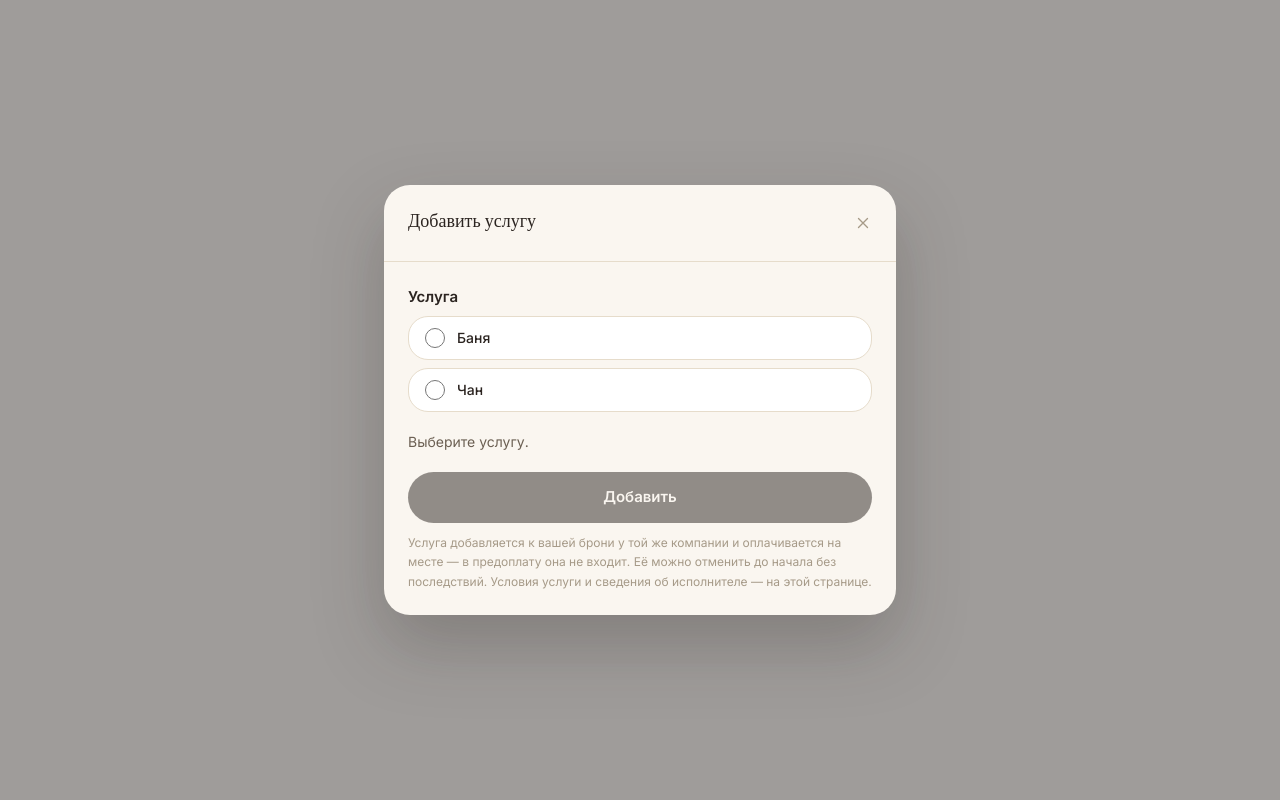
Test case: ServicePickDialog (QA цикл 39) › a quote the server refused (not ok / gate closed) can never be confirmed
Step 1. Click the radio button labelled "Баня" → (435, 338), box left=425, top=328, right=445, bottom=348
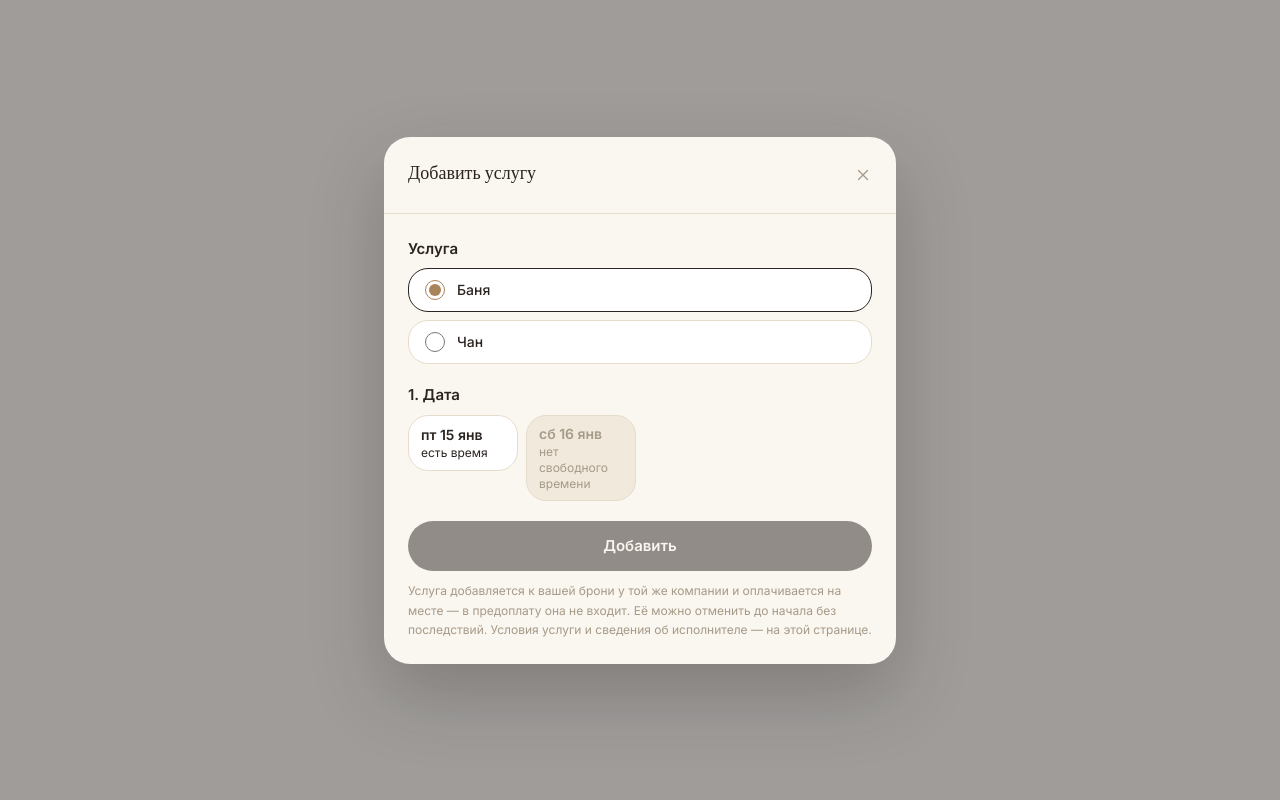
Step 2. Click the button "пт 15 янв есть время" → (463, 442), box left=408, top=414, right=518, bottom=470
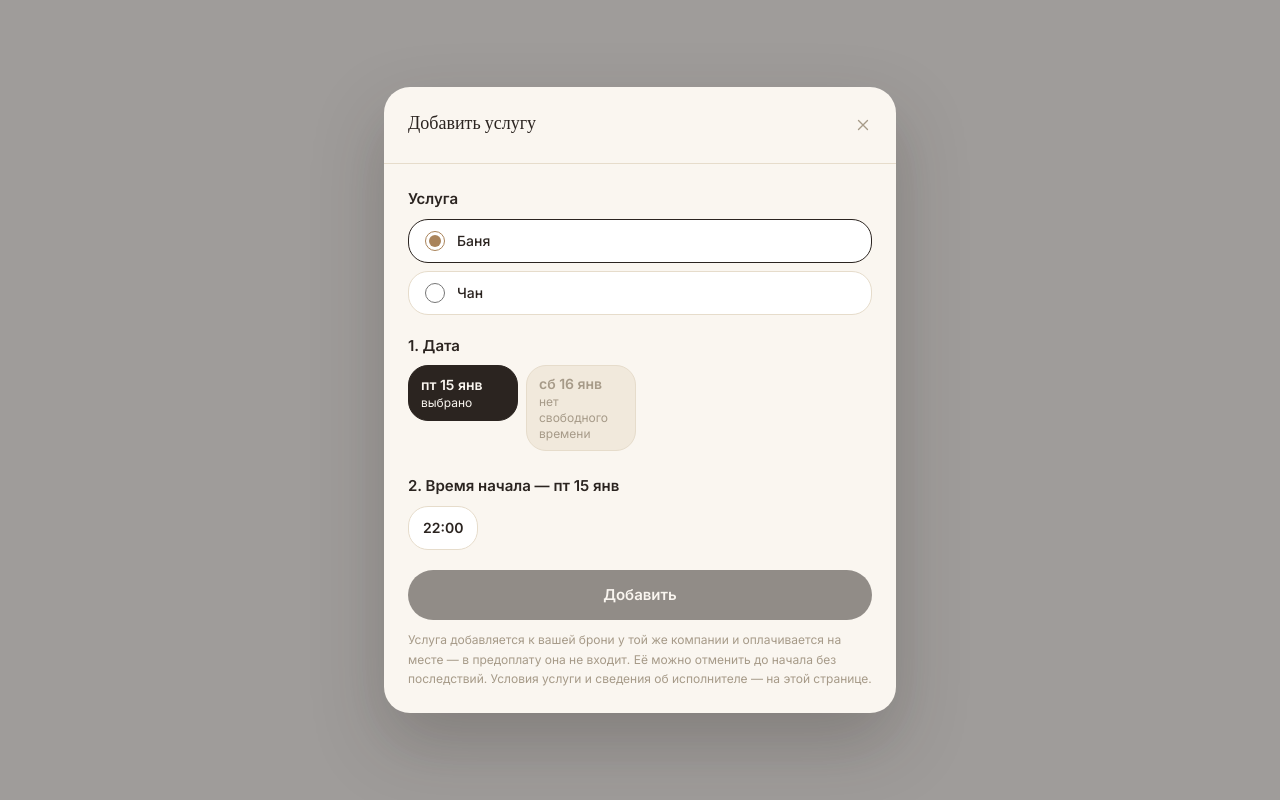
Step 3. Click the button named "Начало в 22:00" → (443, 528), box left=408, top=506, right=478, bottom=550
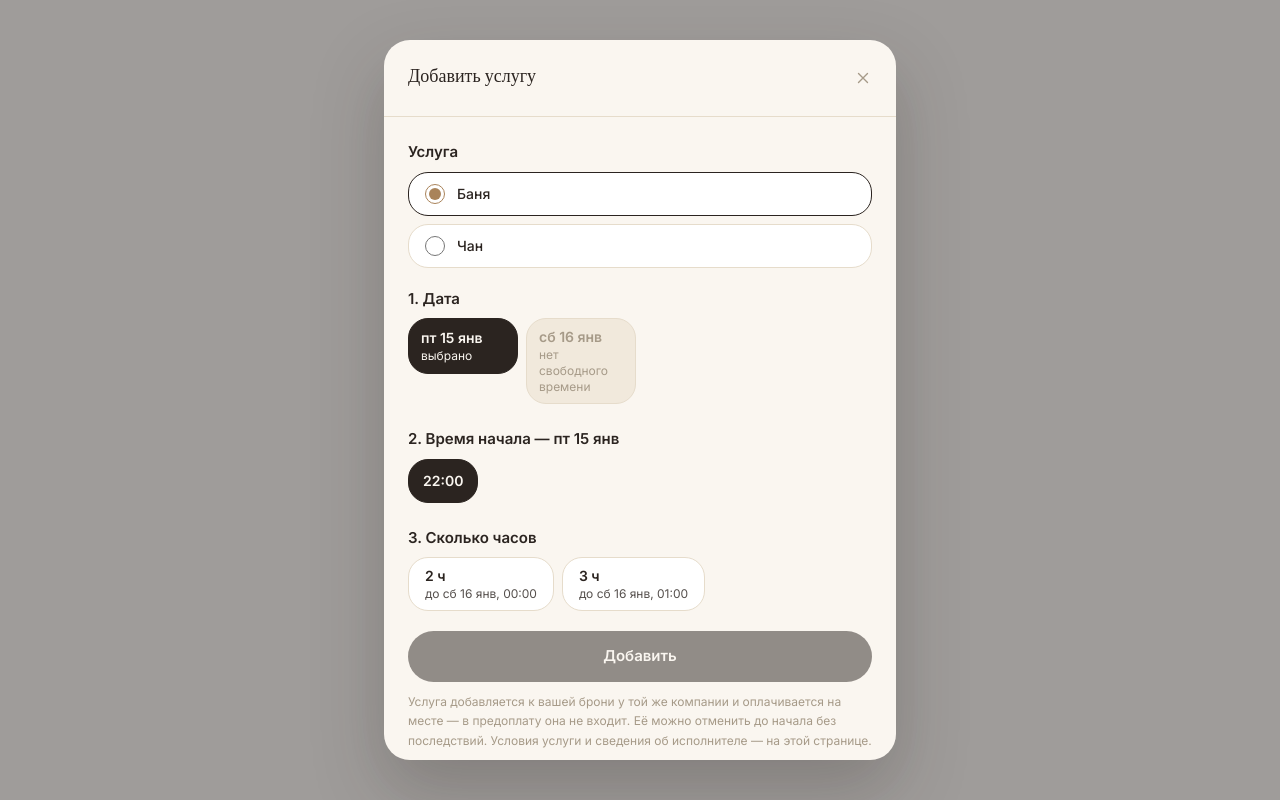
Step 4. Click the button "2 ч до сб 16 янв, 00:00" → (481, 584), box left=408, top=557, right=554, bottom=611
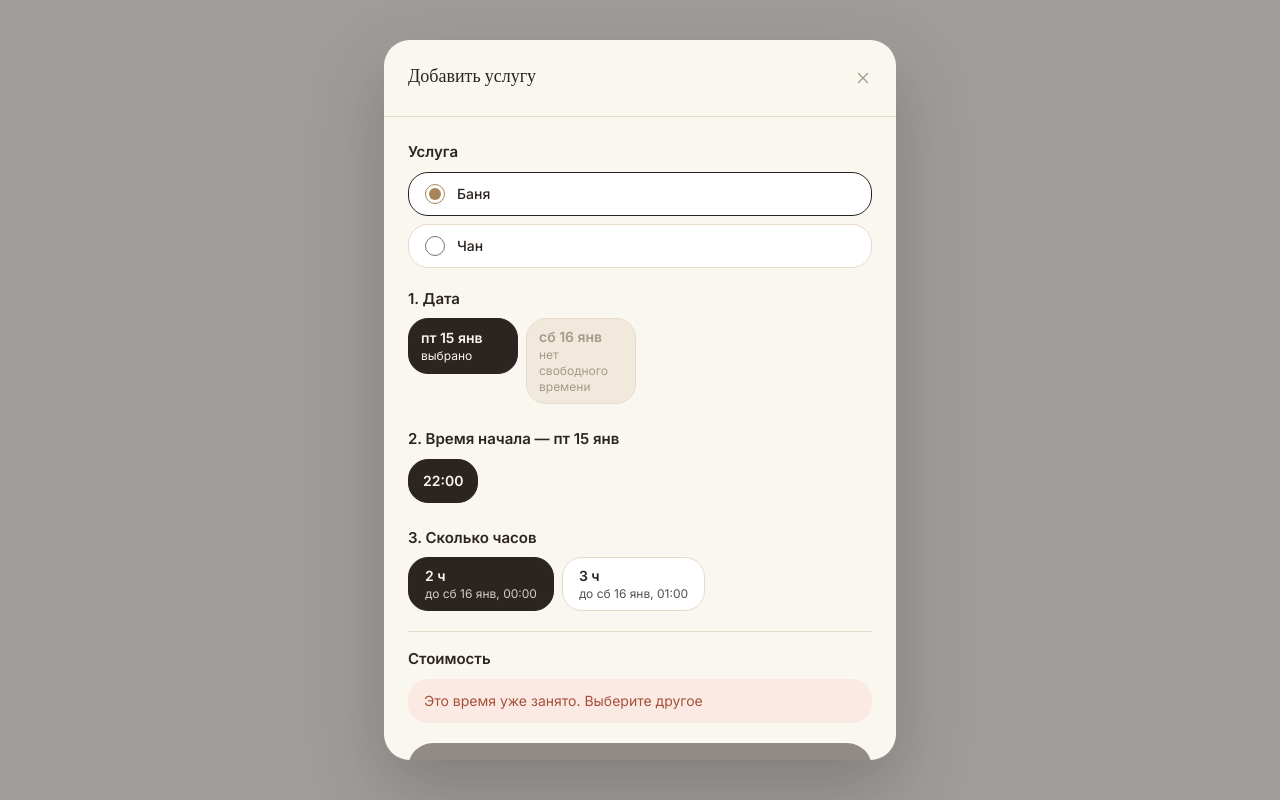
Now the message with test id "service-quote-problems" shows "Это время уже занято", box left=424, top=692, right=703, bottom=708
